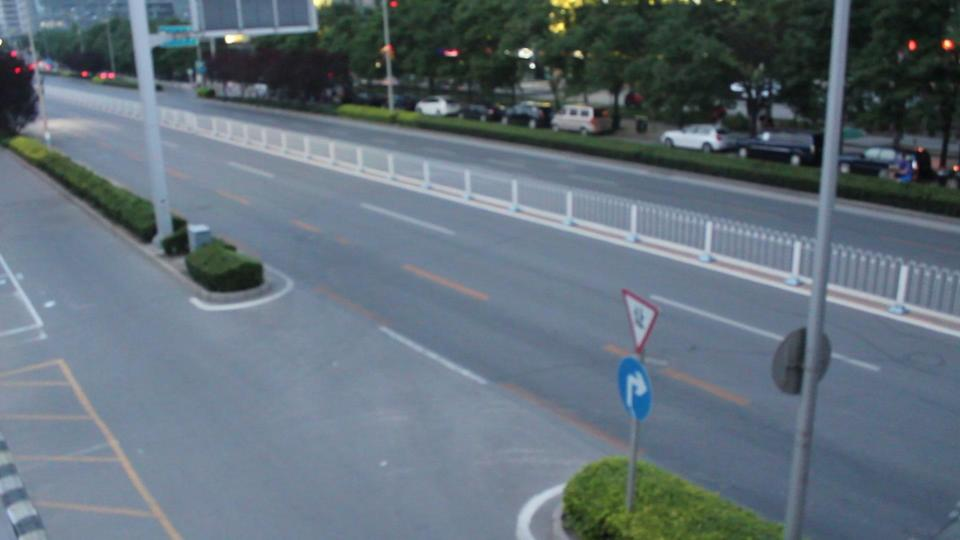car: (835, 136, 929, 179), (737, 130, 819, 166), (660, 124, 749, 154), (551, 105, 613, 136), (502, 102, 546, 127), (415, 96, 463, 117)
person: (912, 145, 937, 183), (893, 157, 916, 185)
sign: (617, 380, 666, 436), (624, 290, 666, 351)
